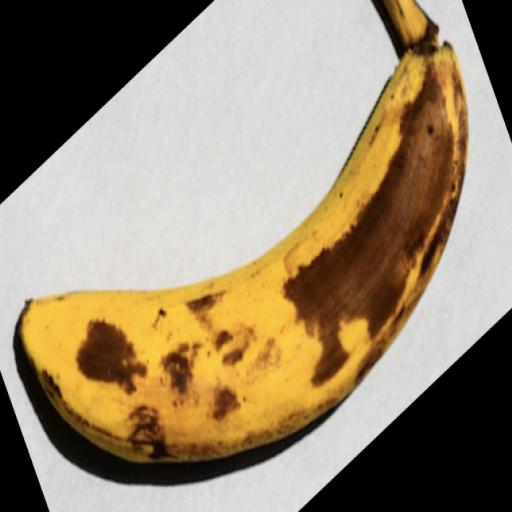banana-overripe: (24, 0, 481, 475)
